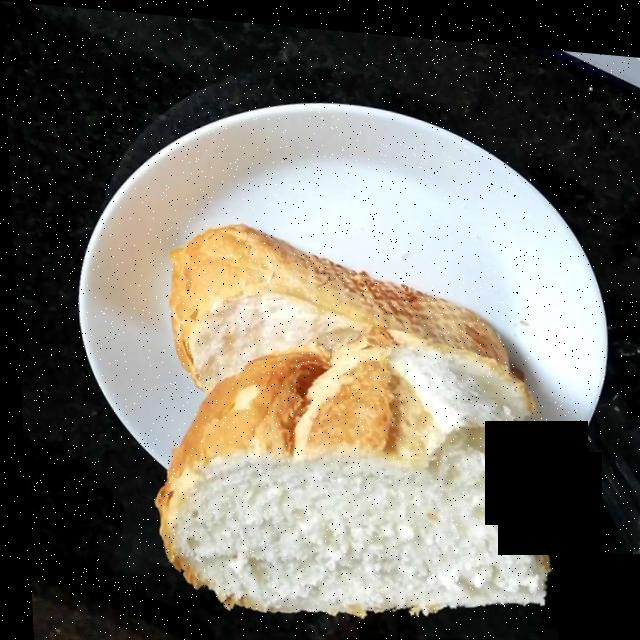bread-white: (156, 224, 533, 610)
